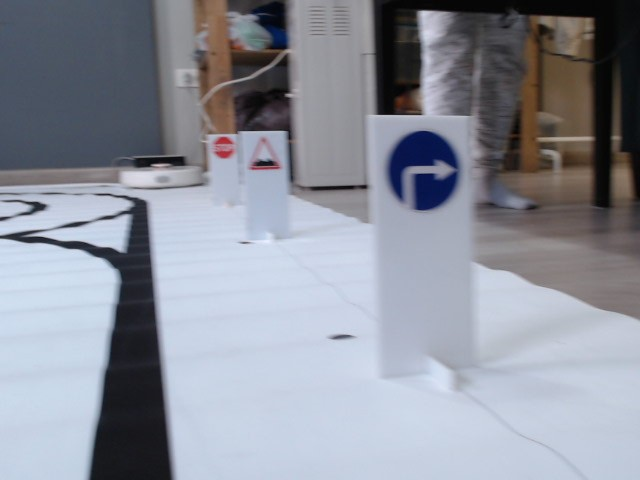Nerov: (244, 137, 283, 173)
Right: (386, 130, 458, 208)
